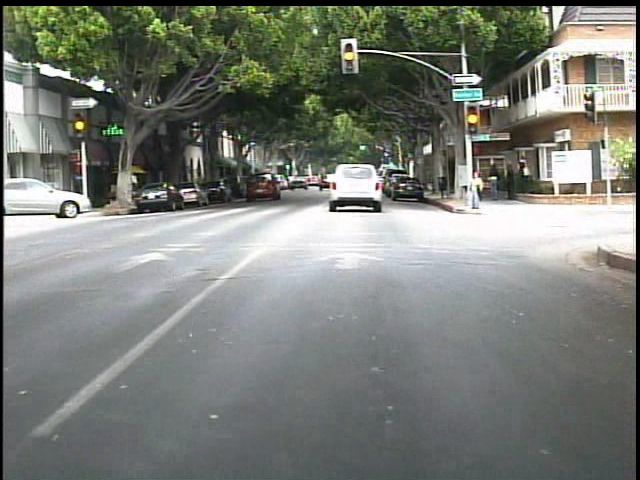person: (464, 169, 487, 213), (488, 162, 504, 203), (515, 155, 532, 193), (505, 164, 519, 205)
